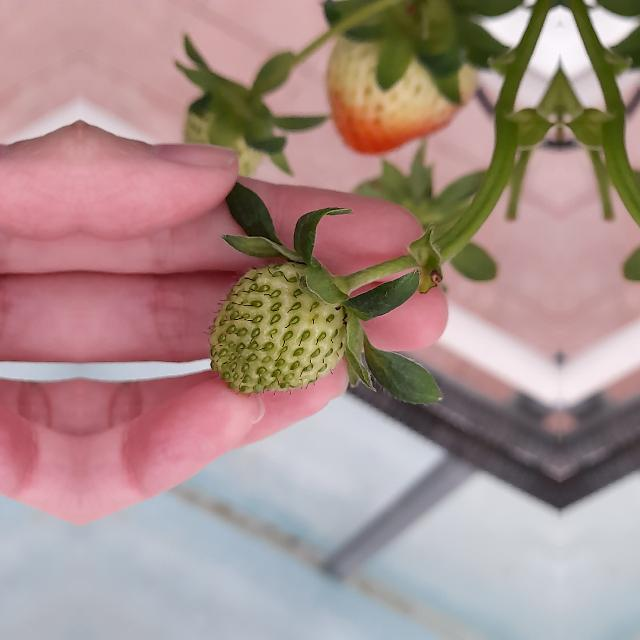Health_25: (208, 262, 348, 393)
Health_50: (328, 22, 472, 158)
